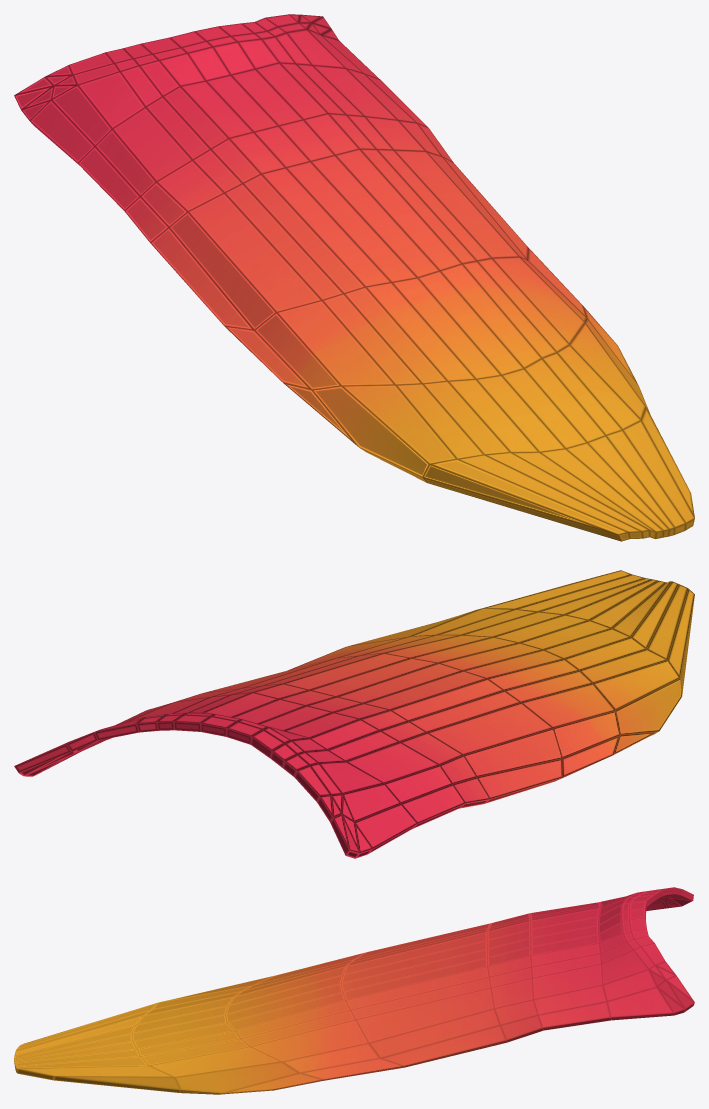
File: only nail 1.fbx
3 views of the same model, one above another, from view 1: azimuth 30°, elevation 25°; view 2: azimuth 150°, elevation 25°; view 3: azimuth 270°, elevation 25° (orthographic). The views are drawn at different scales.
Visible parts, largest first — view 1: Acrylic nail EDITED; view 2: Acrylic nail EDITED; view 3: Acrylic nail EDITED.
Part boxes in pixels (left/top/right/bottom): Acrylic nail EDITED: left=14, top=14, right=694, bottom=541; Acrylic nail EDITED: left=14, top=570, right=694, bottom=858; Acrylic nail EDITED: left=14, top=887, right=694, bottom=1094.
Size of the model in its own units: 83.71 by 49.85 by 214.
Materials: 1 (1 with a texture image).
